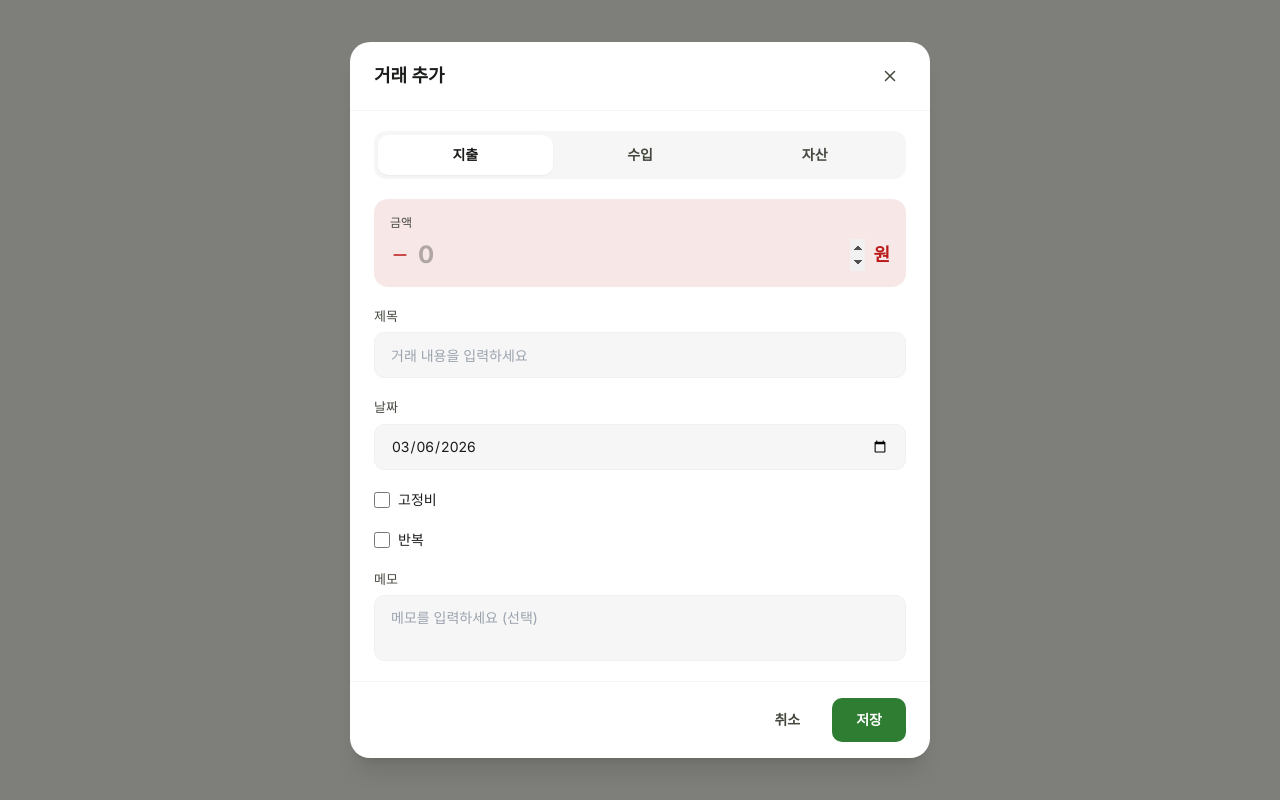
Test: AddTransactionDialog › 거래 타입 전환 › 자산 탭 클릭 시 자산 카테고리만 표시되어야 한다
What coordinates should you click on to do the following:
click the button "자산"
I would click on:
 (815, 155)
Its box is [727,135,902,175].
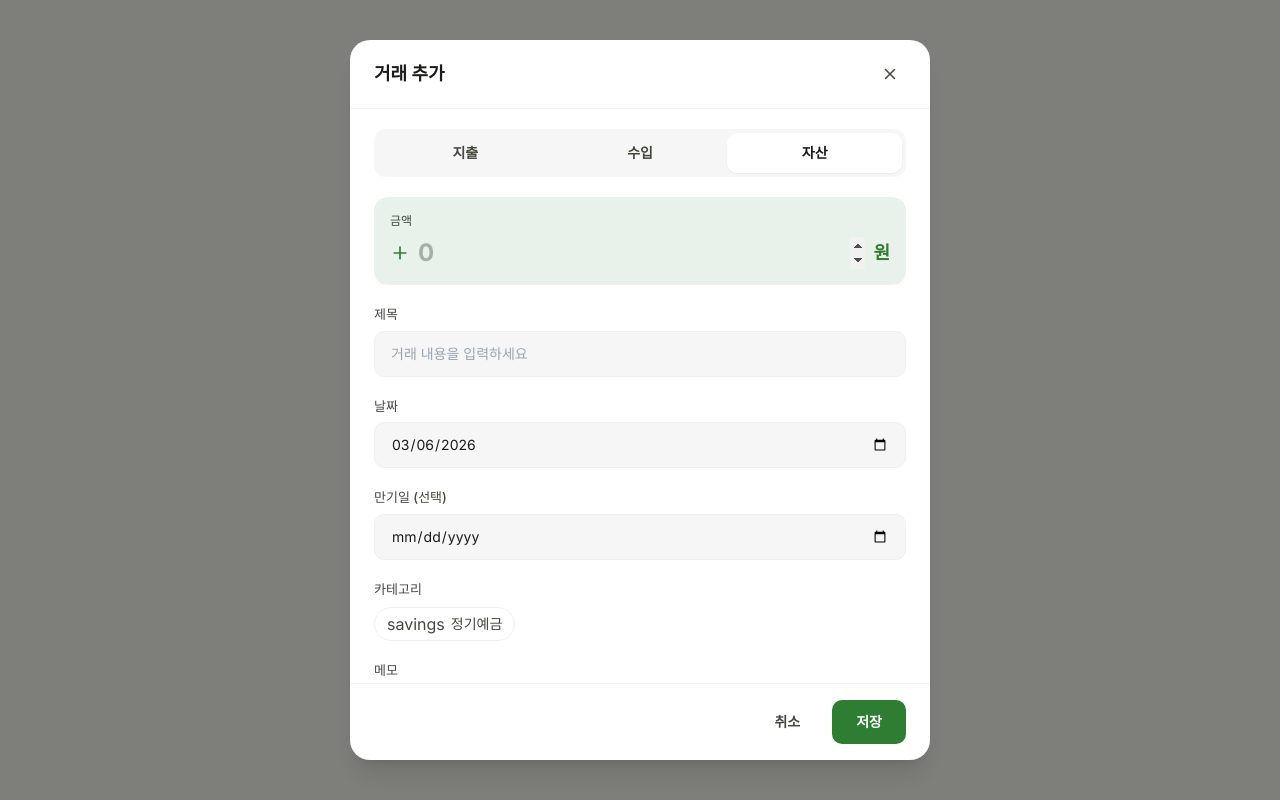
Expected: the button "savings 정기예금" is shown, [374,607,515,641]
